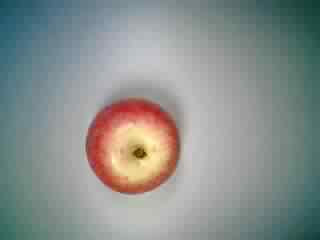apple: (81, 98, 185, 197)
